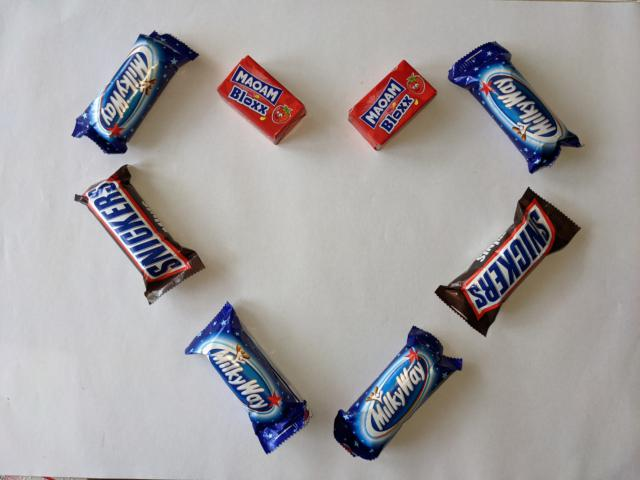MAOAM: (345, 58, 440, 154), (214, 52, 309, 146)
MilkyWay: (181, 299, 314, 456), (444, 39, 584, 176), (331, 324, 465, 464), (70, 30, 201, 157)
Snickers: (432, 186, 583, 339), (71, 162, 208, 307)
